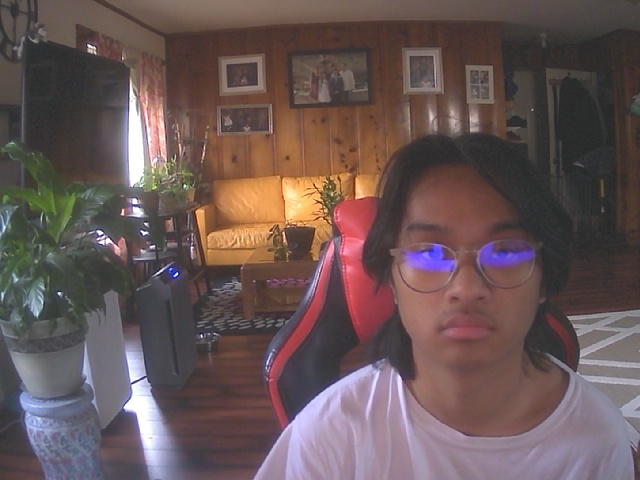neutral: (381, 142, 557, 372)
